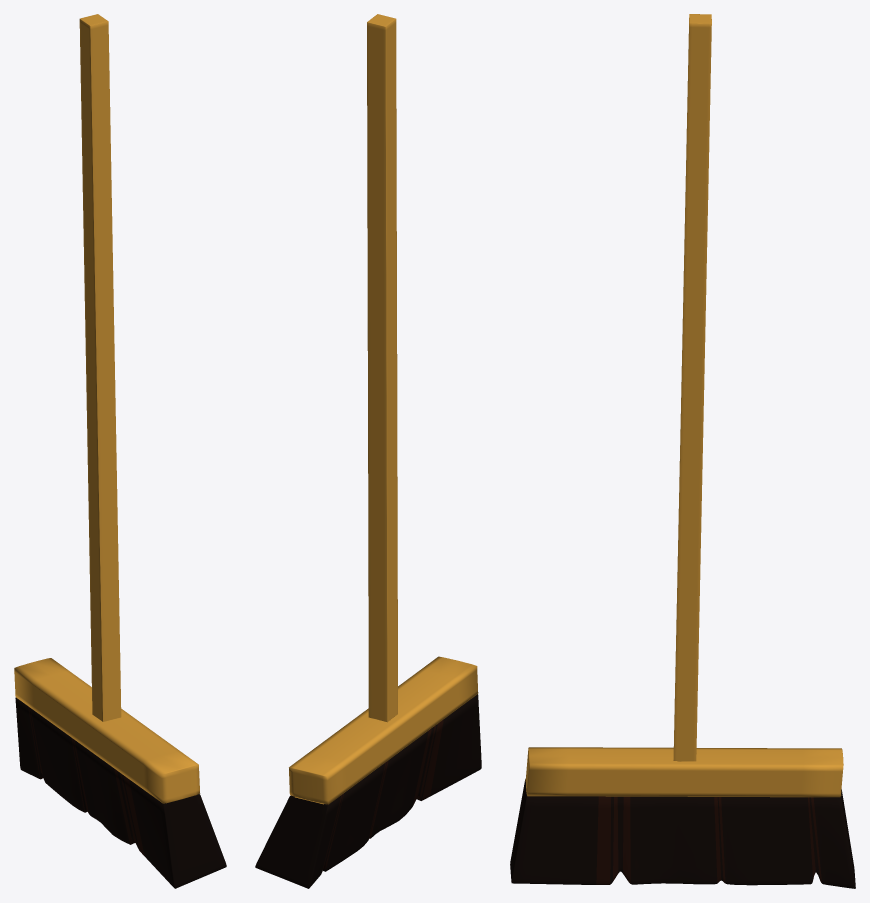
Rendered from Broom.fbx.
3 renders of one model, left to right at view 1: azimuth 30°, elevation 25°; view 2: azimuth 150°, elevation 25°; view 3: azimuth 270°, elevation 25°, orthographic. The views are drawn at different scales.
Visible parts, largest first — view 1: Broom; view 2: Broom; view 3: Broom.
Boxes of the visible parts, left/top/right/bottom form: Broom: left=14, top=14, right=226, bottom=888; Broom: left=255, top=14, right=481, bottom=888; Broom: left=510, top=14, right=855, bottom=888.
Bounding box in the file's own units: 14.14 × 167 × 61.33.
